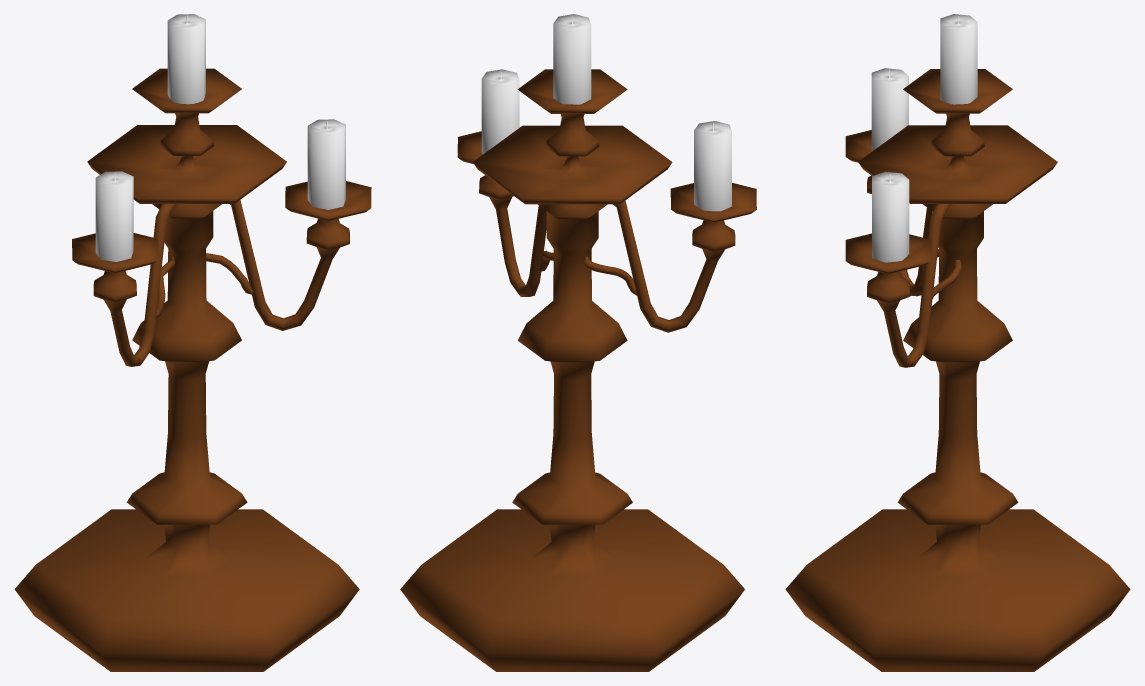
File: candles.fbx
The picture shows the model from 3 angles, left to right: view 1: azimuth 30°, elevation 25°; view 2: azimuth 150°, elevation 25°; view 3: azimuth 270°, elevation 25°; orthographic projection.
Visible parts, largest first — view 1: candlestick; view 2: candlestick; view 3: candlestick.
Boxes of the visible parts, <box> form: candlestick: <box>14,14,371,671</box>; candlestick: <box>400,14,756,671</box>; candlestick: <box>785,14,1130,671</box>.
Bounding box in the file's own units: 25.42 × 48.75 × 25.41.
